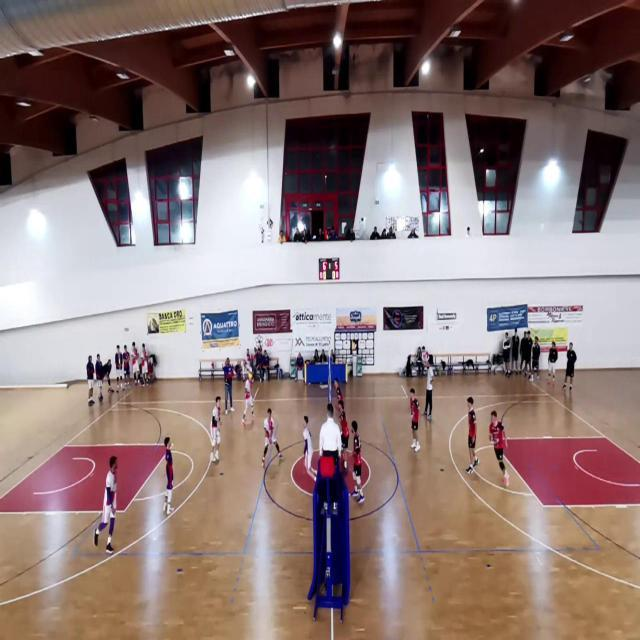volleyball: (248, 372, 255, 383)
